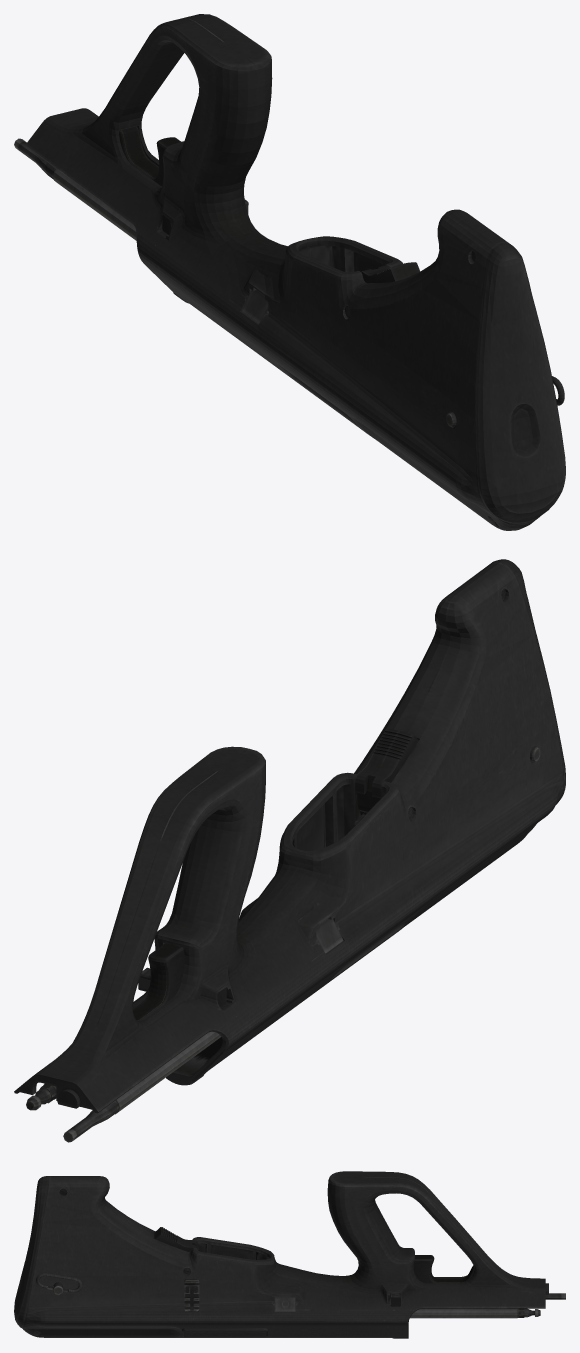
3 renders of one model, top to bottom at view 1: azimuth 30°, elevation 25°; view 2: azimuth 150°, elevation 25°; view 3: azimuth 270°, elevation 25°, orthographic. The views are drawn at different scales.
Visible parts, largest first — view 1: TW_6718817435e3cfd9550d2c27_PZ_Import; view 2: TW_6718817435e3cfd9550d2c27_PZ_Import; view 3: TW_6718817435e3cfd9550d2c27_PZ_Import.
Part boxes in pixels (left/top/right/bottom): TW_6718817435e3cfd9550d2c27_PZ_Import: left=14, top=14, right=565, bottom=530; TW_6718817435e3cfd9550d2c27_PZ_Import: left=14, top=559, right=565, bottom=1142; TW_6718817435e3cfd9550d2c27_PZ_Import: left=14, top=1171, right=565, bottom=1338.
Bounding box in the file's own units: 0.0383 × 0.301 × 0.0966.
Materials: 1 (1 with a texture image).
